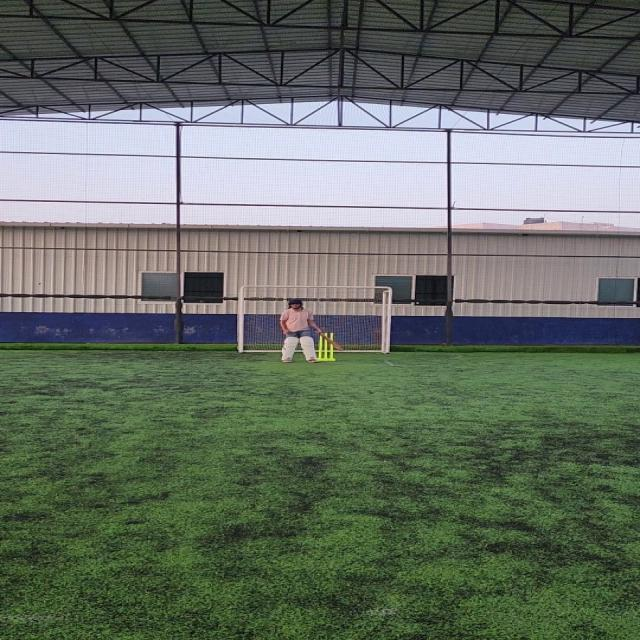stump: (318, 332, 338, 361)
